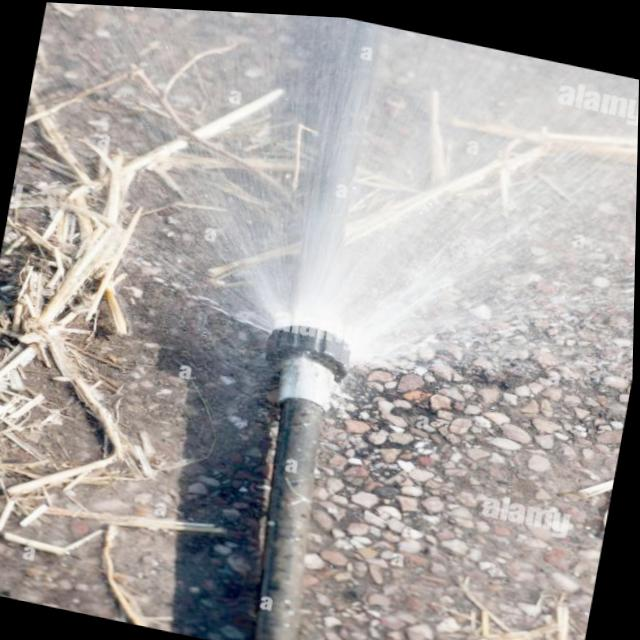leak: (242, 16, 436, 353)
